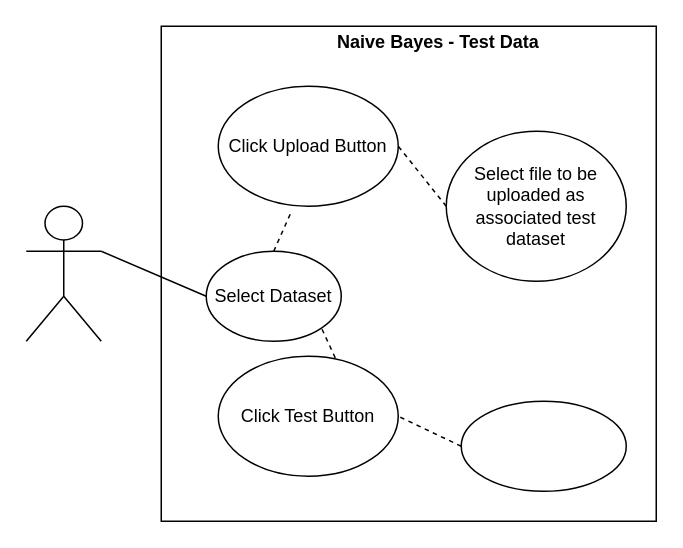
This 683x548 diagram has some shape labels left out. The shapes that lost their labels are listed below. From the top down, each one's box as (x1, y1, x2, y2) in pixels, then its label:
(25, 205, 101, 341): User
(460, 400, 626, 491): View Confusion Matrix and ROC curve
